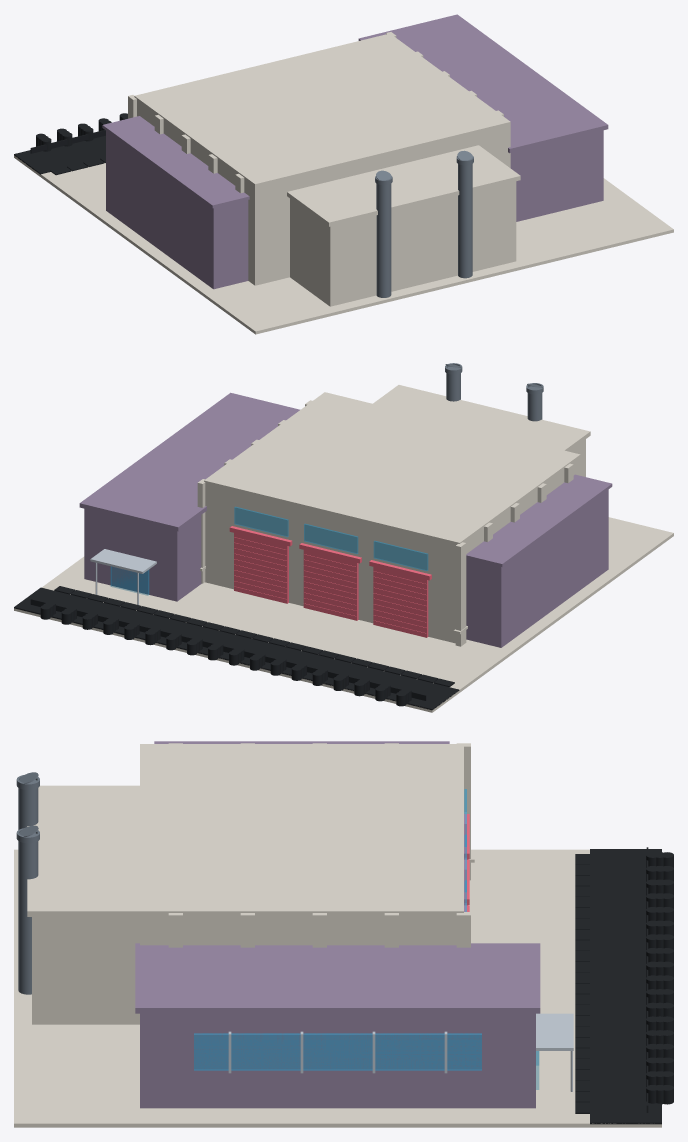
File: hq_08_motorsport_l3.glb
The picture shows the model from 3 angles, top to bottom: view 1: azimuth 30°, elevation 25°; view 2: azimuth 150°, elevation 25°; view 3: azimuth 270°, elevation 25°; orthographic projection. The views are drawn at different scales.
Visible parts, largest first — view 1: GEO_Motorsport_Race_Bay_Shell, GEO_Motorsport_Engine_Dyno_Shell, GEO_Motorsport_Office_Halls, GEO_Motorsport_Foundation_Plinth, GEO_Motorsport_Composite_Cleanroom_Shell, GEO_Motorsport_Dyno_Exhaust_Stacks, GEO_Motorsport_Circuit_Test_Strip; view 2: GEO_Motorsport_Race_Bay_Shell, GEO_Motorsport_Office_Halls, GEO_Motorsport_Foundation_Plinth, GEO_Motorsport_Composite_Cleanroom_Shell, GEO_Motorsport_Circuit_Test_Strip, GEO_Motorsport_Bay_RollUp_Doors, GEO_Motorsport_Engine_Dyno_Shell, GEO_Motorsport_Transom_Windows, GEO_Motorsport_Dyno_Exhaust_Stacks, GEO_Motorsport_Office_Mullions, GEO_Motorsport_Office_Glass; view 3: GEO_Motorsport_Race_Bay_Shell, GEO_Motorsport_Office_Halls, GEO_Motorsport_Foundation_Plinth, GEO_Motorsport_Circuit_Test_Strip, GEO_Motorsport_Engine_Dyno_Shell, GEO_Motorsport_Office_Glass, GEO_Motorsport_Dyno_Exhaust_Stacks, GEO_Motorsport_Office_Mullions, GEO_Motorsport_Composite_Cleanroom_Shell.
Part boxes in pixels (left/top/right/bottom): GEO_Motorsport_Race_Bay_Shell: left=128, top=32, right=510, bottom=285; GEO_Motorsport_Engine_Dyno_Shell: left=287, top=145, right=520, bottom=306; GEO_Motorsport_Office_Halls: left=358, top=14, right=608, bottom=221; GEO_Motorsport_Foundation_Plinth: left=14, top=155, right=673, bottom=334; GEO_Motorsport_Composite_Cleanroom_Shell: left=102, top=116, right=249, bottom=289; GEO_Motorsport_Dyno_Exhaust_Stacks: left=375, top=150, right=473, bottom=297; GEO_Motorsport_Circuit_Test_Strip: left=14, top=113, right=127, bottom=175; GEO_Motorsport_Race_Bay_Shell: left=197, top=392, right=580, bottom=646; GEO_Motorsport_Office_Halls: left=79, top=392, right=300, bottom=601; GEO_Motorsport_Foundation_Plinth: left=14, top=517, right=673, bottom=712; GEO_Motorsport_Composite_Cleanroom_Shell: left=466, top=474, right=612, bottom=647; GEO_Motorsport_Circuit_Test_Strip: left=14, top=586, right=459, bottom=710; GEO_Motorsport_Bay_RollUp_Doors: left=229, top=526, right=431, bottom=637; GEO_Motorsport_Engine_Dyno_Shell: left=373, top=385, right=590, bottom=476; GEO_Motorsport_Transom_Windows: left=234, top=506, right=428, bottom=570; GEO_Motorsport_Dyno_Exhaust_Stacks: left=445, top=363, right=543, bottom=421; GEO_Motorsport_Office_Mullions: left=90, top=549, right=156, bottom=604; GEO_Motorsport_Office_Glass: left=110, top=566, right=149, bottom=595; GEO_Motorsport_Race_Bay_Shell: left=140, top=743, right=474, bottom=947; GEO_Motorsport_Office_Halls: left=135, top=943, right=540, bottom=1108; GEO_Motorsport_Foundation_Plinth: left=14, top=849, right=661, bottom=1127; GEO_Motorsport_Circuit_Test_Strip: left=575, top=847, right=673, bottom=1124; GEO_Motorsport_Engine_Dyno_Shell: left=27, top=785, right=139, bottom=1024; GEO_Motorsport_Office_Glass: left=194, top=1033, right=539, bottom=1089; GEO_Motorsport_Dyno_Exhaust_Stacks: left=16, top=772, right=39, bottom=994; GEO_Motorsport_Office_Mullions: left=228, top=1013, right=573, bottom=1091; GEO_Motorsport_Composite_Cleanroom_Shell: left=154, top=741, right=449, bottom=743.
Size of what is drawn, in the model's own units: 36 by 10.23 by 36.67.
